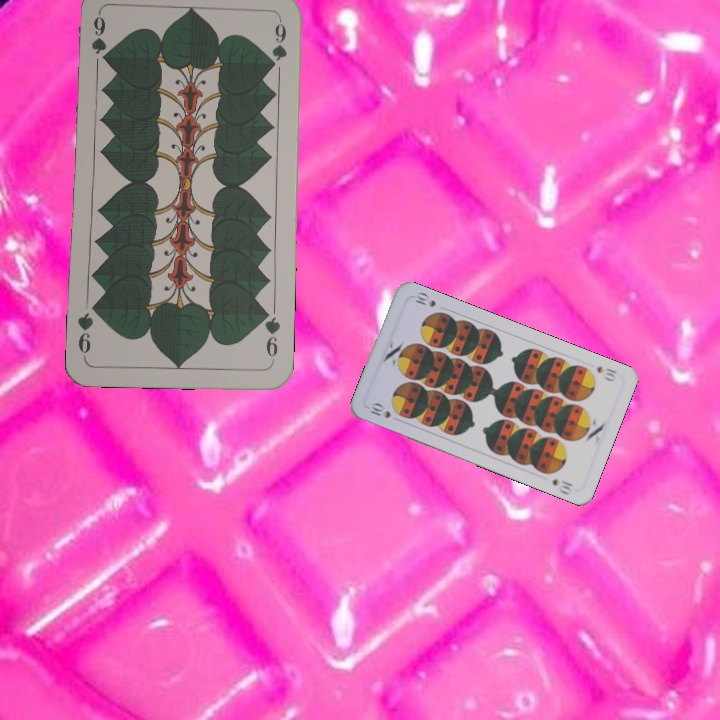G9: (259, 306, 283, 365), (87, 12, 108, 56)
S10: (366, 399, 394, 421), (593, 362, 619, 384)
